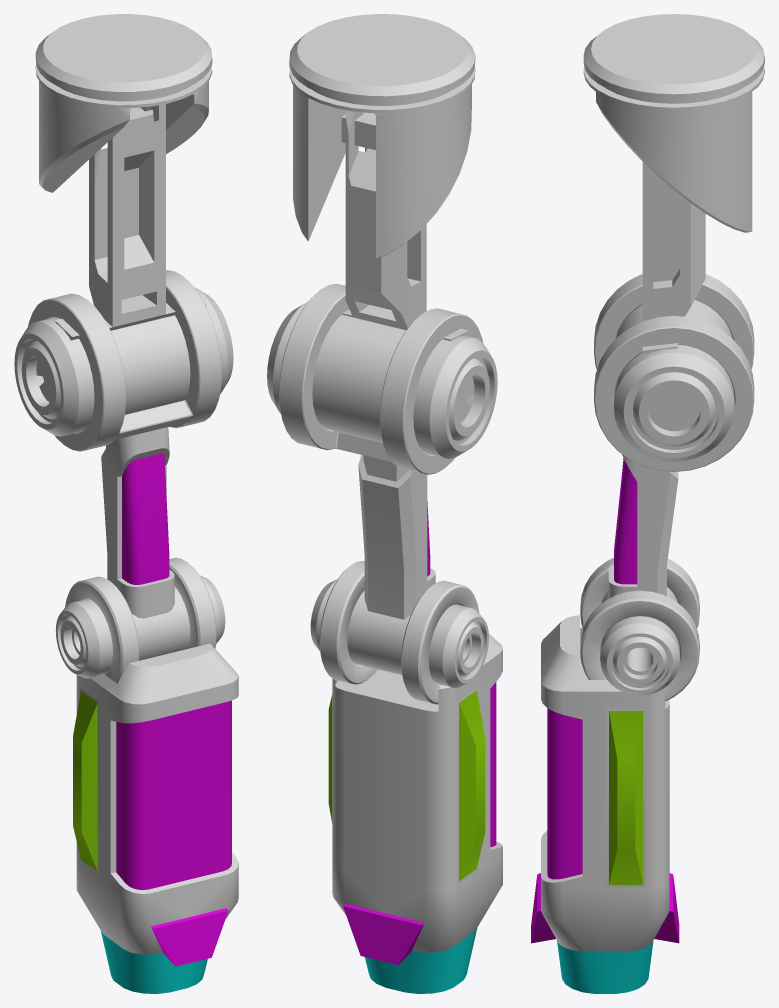
File: MountedCameraRotationAnim.fbx
The picture shows the model from 3 angles, left to right: view 1: azimuth 30°, elevation 25°; view 2: azimuth 150°, elevation 25°; view 3: azimuth 270°, elevation 25°; orthographic projection. The views are drawn at different scales.
Visible parts, largest first — view 1: Camera_low, RoofConnector_low, BaseRod_low, TopCylinder_low, TopCylinderAccent_low, PivotConnector_low, BottomCylinder_low, BottomCylinderAccent_low; view 2: Camera_low, RoofConnector_low, TopCylinder_low, TopCylinderAccent_low, BaseRod_low, PivotConnector_low, BottomCylinder_low, BottomCylinderAccent_low; view 3: Camera_low, RoofConnector_low, TopCylinderAccent_low, TopCylinder_low, BaseRod_low, BottomCylinderAccent_low, PivotConnector_low, BottomCylinder_low.
Part boxes in pixels (bbox=[...]): Camera_low: bbox=[73, 643, 238, 993]; RoofConnector_low: bbox=[35, 14, 212, 192]; BaseRod_low: bbox=[55, 104, 205, 340]; TopCylinder_low: bbox=[14, 287, 233, 436]; TopCylinderAccent_low: bbox=[28, 270, 221, 451]; PivotConnector_low: bbox=[101, 427, 174, 618]; BottomCylinder_low: bbox=[55, 575, 225, 678]; BottomCylinderAccent_low: bbox=[65, 557, 216, 683]; Camera_low: bbox=[328, 634, 502, 993]; RoofConnector_low: bbox=[289, 14, 475, 257]; TopCylinder_low: bbox=[267, 301, 497, 458]; TopCylinderAccent_low: bbox=[279, 283, 483, 474]; BaseRod_low: bbox=[342, 110, 468, 341]; PivotConnector_low: bbox=[358, 455, 435, 619]; BottomCylinder_low: bbox=[310, 579, 488, 688]; BottomCylinderAccent_low: bbox=[319, 561, 479, 704]; Camera_low: bbox=[531, 615, 679, 993]; RoofConnector_low: bbox=[583, 14, 764, 232]; TopCylinderAccent_low: bbox=[594, 274, 754, 471]; TopCylinder_low: bbox=[613, 300, 734, 461]; BaseRod_low: bbox=[642, 162, 705, 354]; BottomCylinderAccent_low: bbox=[580, 558, 699, 701]; PivotConnector_low: bbox=[608, 454, 678, 598]; BottomCylinder_low: bbox=[600, 587, 679, 695].
Size of the model in its own units: 83.61 by 97.09 by 425.
